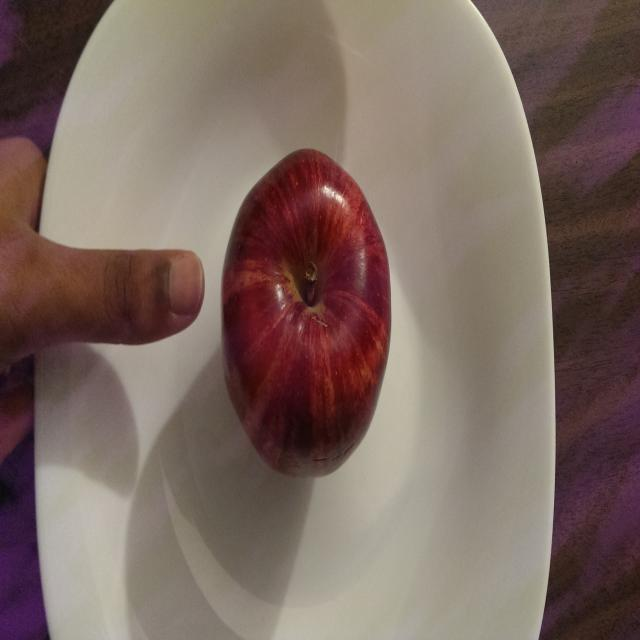apple: (219, 143, 397, 495)
